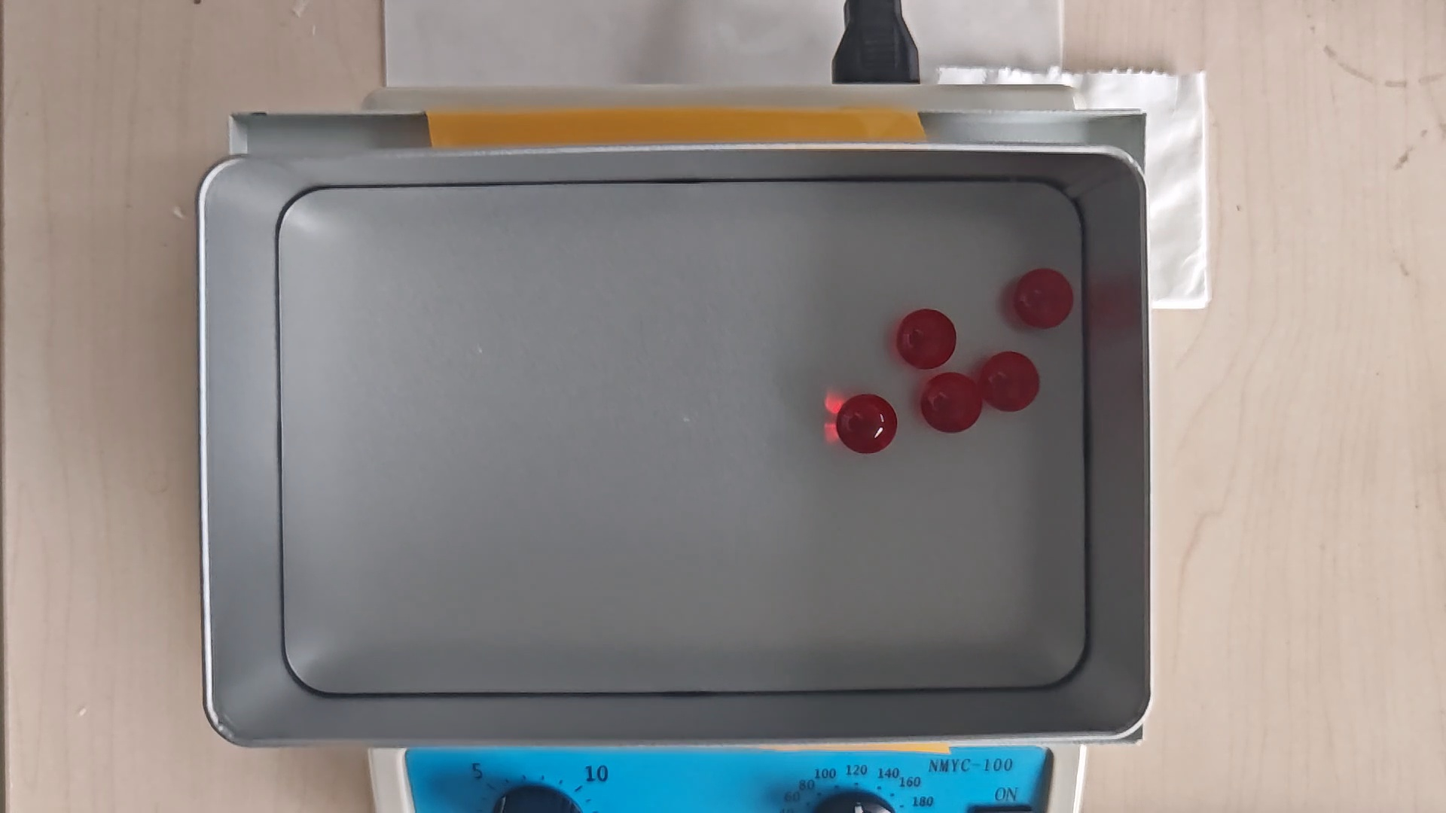ball: (838, 392, 896, 455), (923, 372, 981, 435), (1014, 269, 1073, 330), (981, 352, 1039, 413), (897, 309, 956, 367)
container: (280, 180, 1086, 694)
